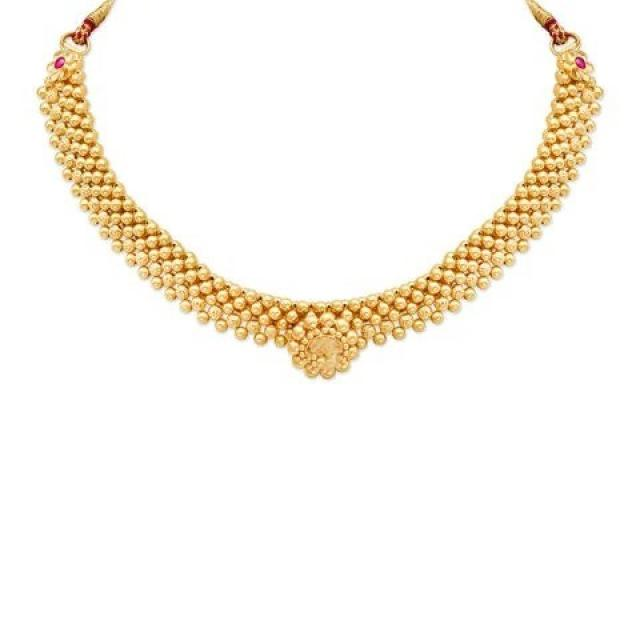missing gem: (308, 336, 342, 361)
